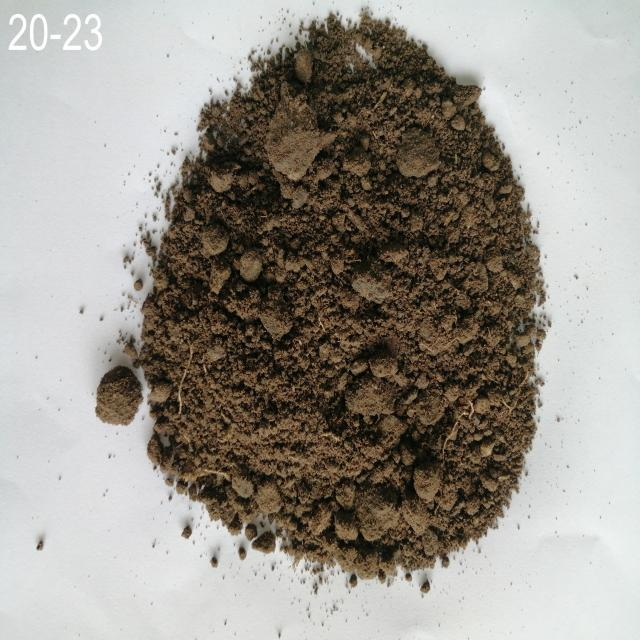soil: (228, 105, 482, 487)
